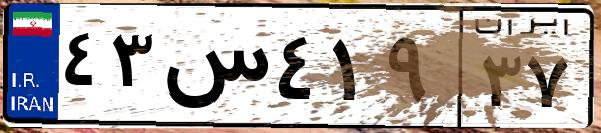1: (330, 28, 385, 110)
3: (475, 38, 525, 113), (110, 28, 158, 98)
4: (270, 28, 330, 110), (57, 26, 110, 100)
7: (525, 38, 570, 115)
9: (385, 28, 445, 110)
س: (158, 20, 270, 120)
